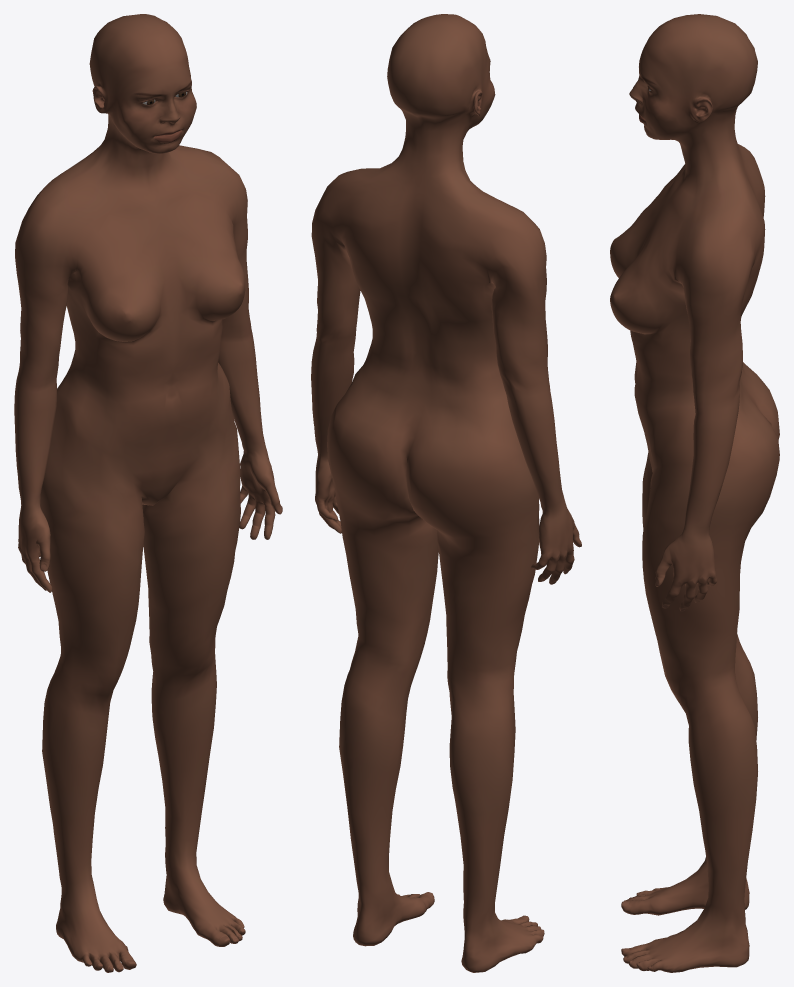
File: woman_african_v2.glb
3 renders of one model, left to right at view 1: azimuth 30°, elevation 25°; view 2: azimuth 150°, elevation 25°; view 3: azimuth 270°, elevation 25°, orthographic.
Parts seen in each view (by area): view 1: basemesh_female_body; view 2: basemesh_female_body; view 3: basemesh_female_body.
Part boxes in pixels (<box>): basemesh_female_body: <box>14,14,282,972</box>; basemesh_female_body: <box>311,14,581,972</box>; basemesh_female_body: <box>610,14,779,972</box>.
Size of the model in its own units: 0.481 by 1.71 by 0.2861.
Materials: 3 (2 with a texture image).
